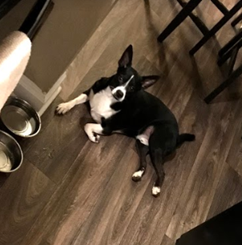Harley: (56, 41, 198, 198)
